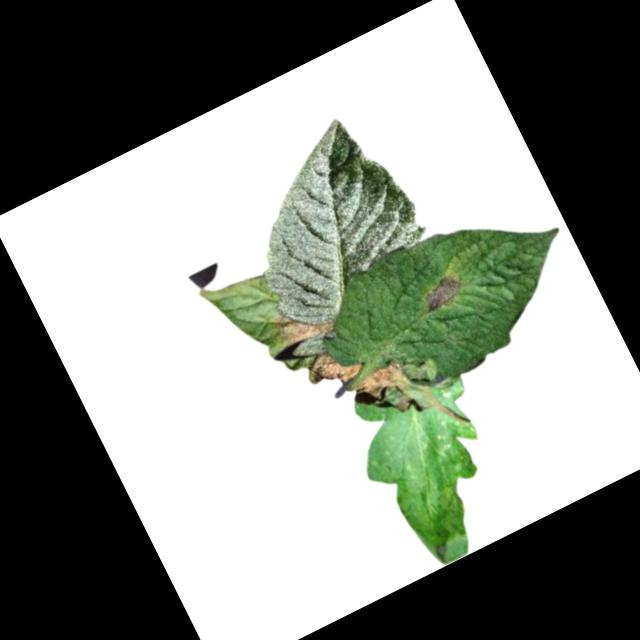Late_blight: (394, 471, 488, 573), (350, 355, 422, 426), (268, 289, 340, 352), (299, 337, 367, 400), (417, 266, 473, 315)
healthy: (213, 102, 444, 338)
